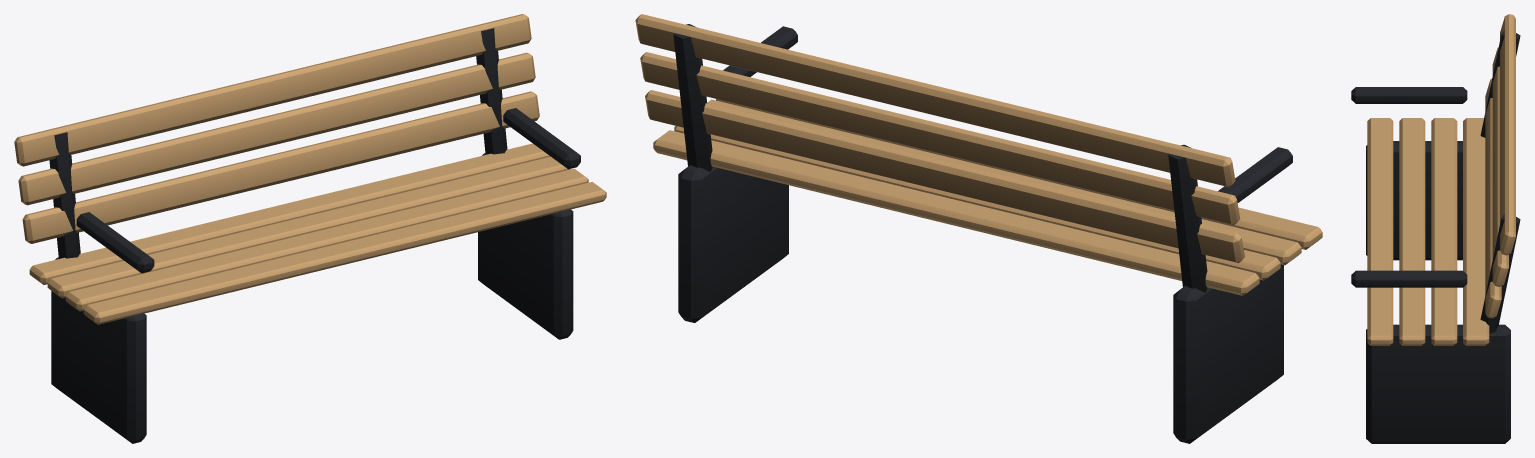
Rendered from bench_01.glb.
3 renders of one model, left to right at view 1: azimuth 30°, elevation 25°; view 2: azimuth 150°, elevation 25°; view 3: azimuth 270°, elevation 25°, orthographic. The views are drawn at different scales.
Parts seen in each view (by area): view 1: bench_01_LOD0; view 2: bench_01_LOD0; view 3: bench_01_LOD0.
Boxes of the visible parts, x1,y1,x2,y2 form: bench_01_LOD0: (14, 14, 606, 443); bench_01_LOD0: (635, 14, 1322, 443); bench_01_LOD0: (1351, 14, 1520, 443).
Size of what is drawn, in the model's own units: 1.8 by 0.8655 by 0.5832.
Materials: 1 (1 with a texture image).
